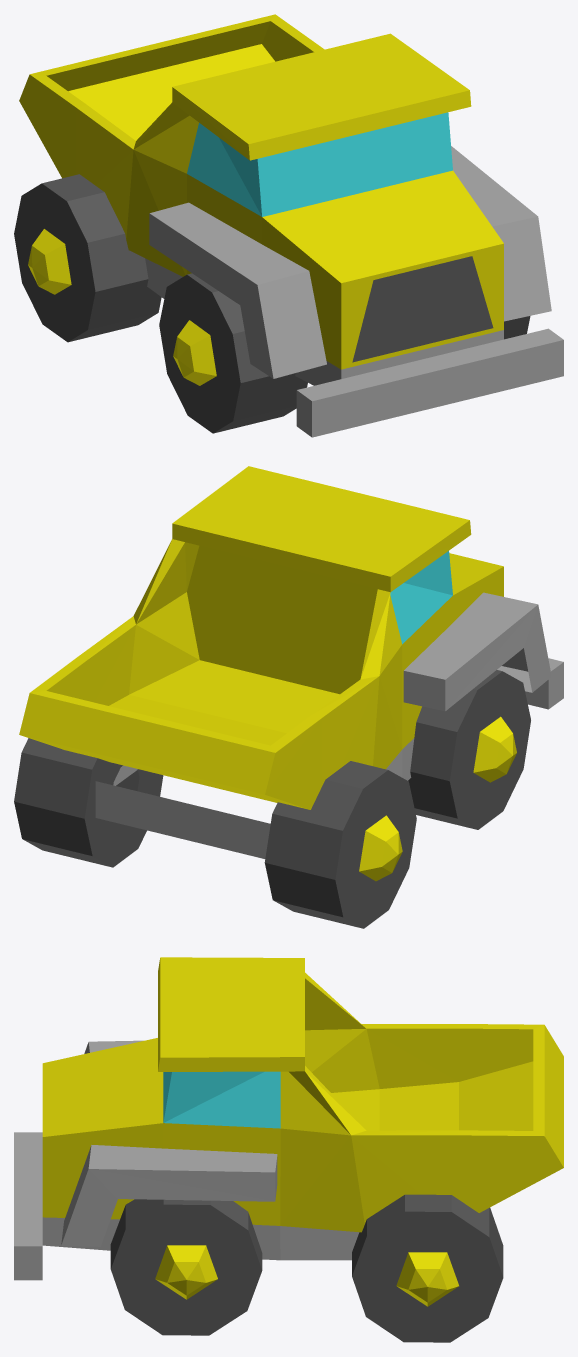
File: Prop_DumpTruck_Mod_01.fbx
The picture shows the model from 3 angles, top to bottom: view 1: azimuth 30°, elevation 25°; view 2: azimuth 150°, elevation 25°; view 3: azimuth 270°, elevation 25°; orthographic projection. The views are drawn at different scales.
Parts seen in each view (by area): view 1: DumpTruck2; view 2: DumpTruck2; view 3: DumpTruck2.
Boxes of the visible parts, x1=… form: DumpTruck2: x1=14, y1=14, x2=563, y2=437; DumpTruck2: x1=14, y1=466, x2=563, y2=928; DumpTruck2: x1=14, y1=957, x2=563, y2=1342.
Bounding box in the file's own units: 3.55 × 2.62 × 4.97.
